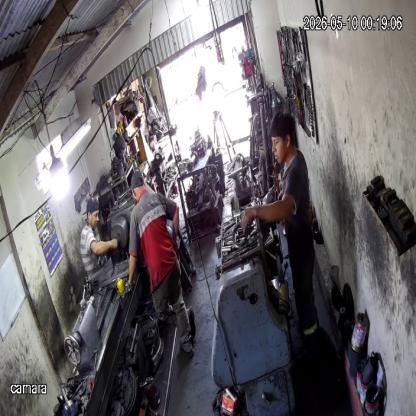sin_lentes: (269, 137, 283, 149)
